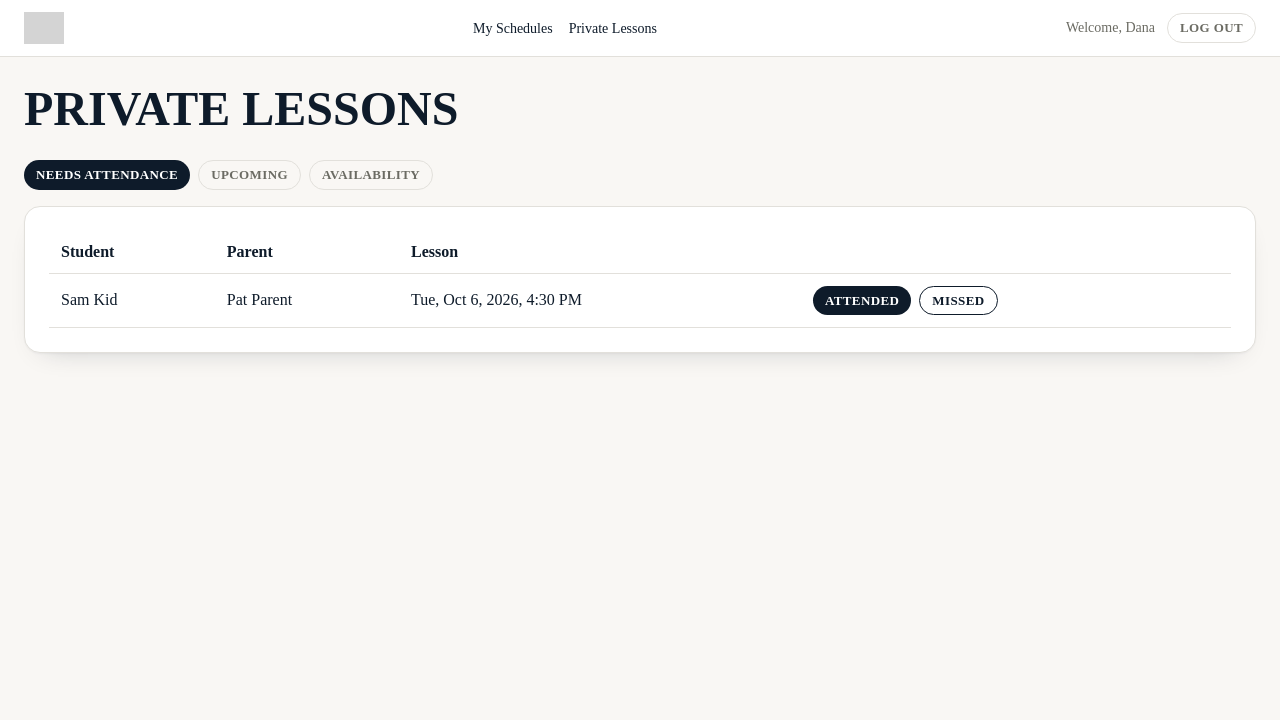
Scenario: CoachPrivateLessonsPage › removing a window deletes every one of its slots, and says past lessons stay on record
This screenshot has width=1280, height=720.
Click the tab "Availability".
click(371, 175)  # box x1=309 y1=160 x2=433 y2=190
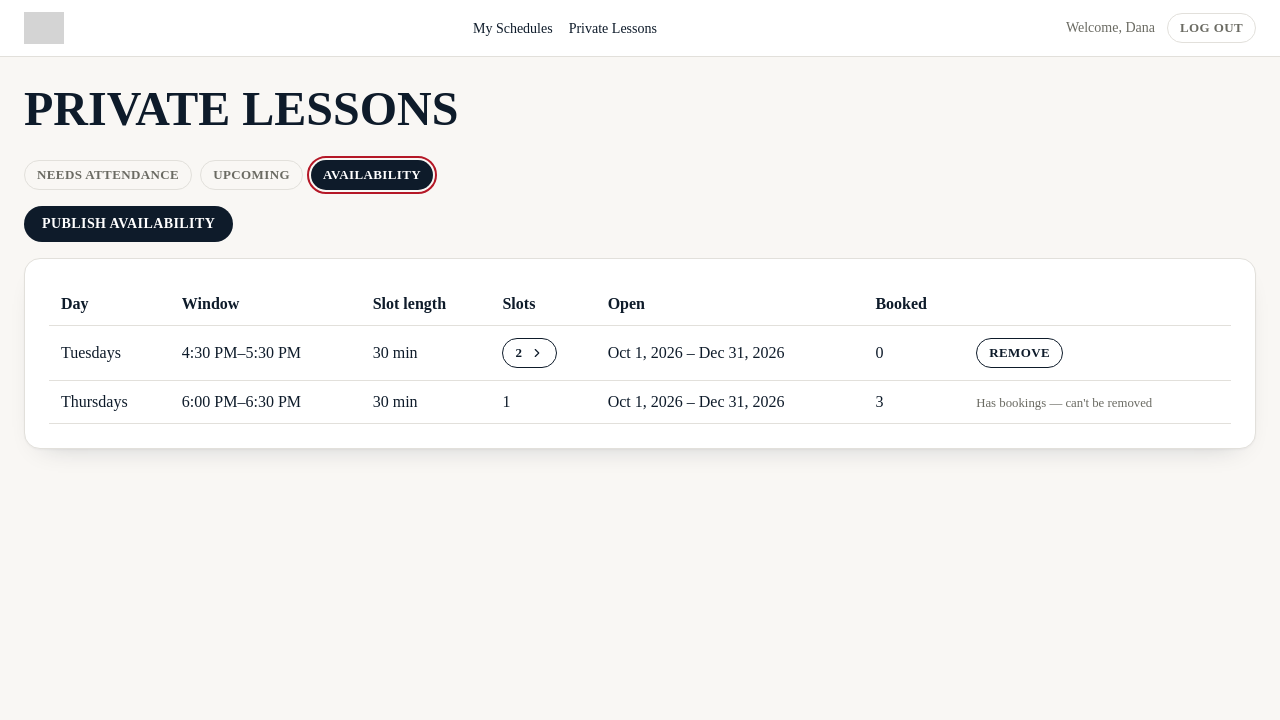
Click the button with aria-label "Remove Tuesdays · 4:30 PM–5:30 PM".
click(1020, 353)  # box x1=976 y1=338 x2=1063 y2=368
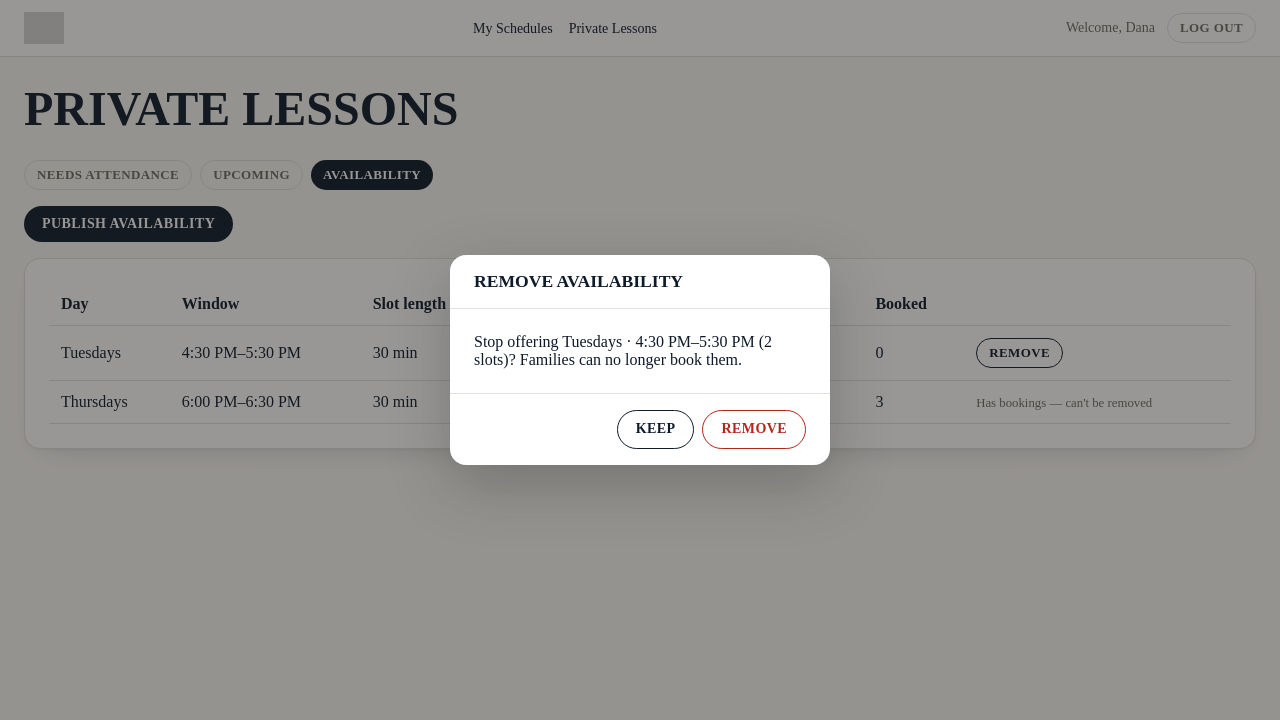
expect the text "Stop offering Tuesdays · 4:30 PM–5:30 PM (2 slots)" is shown: met, box x1=474 y1=333 x2=772 y2=368
Click the button "Remove".
click(754, 430)  # box x1=702 y1=410 x2=806 y2=449
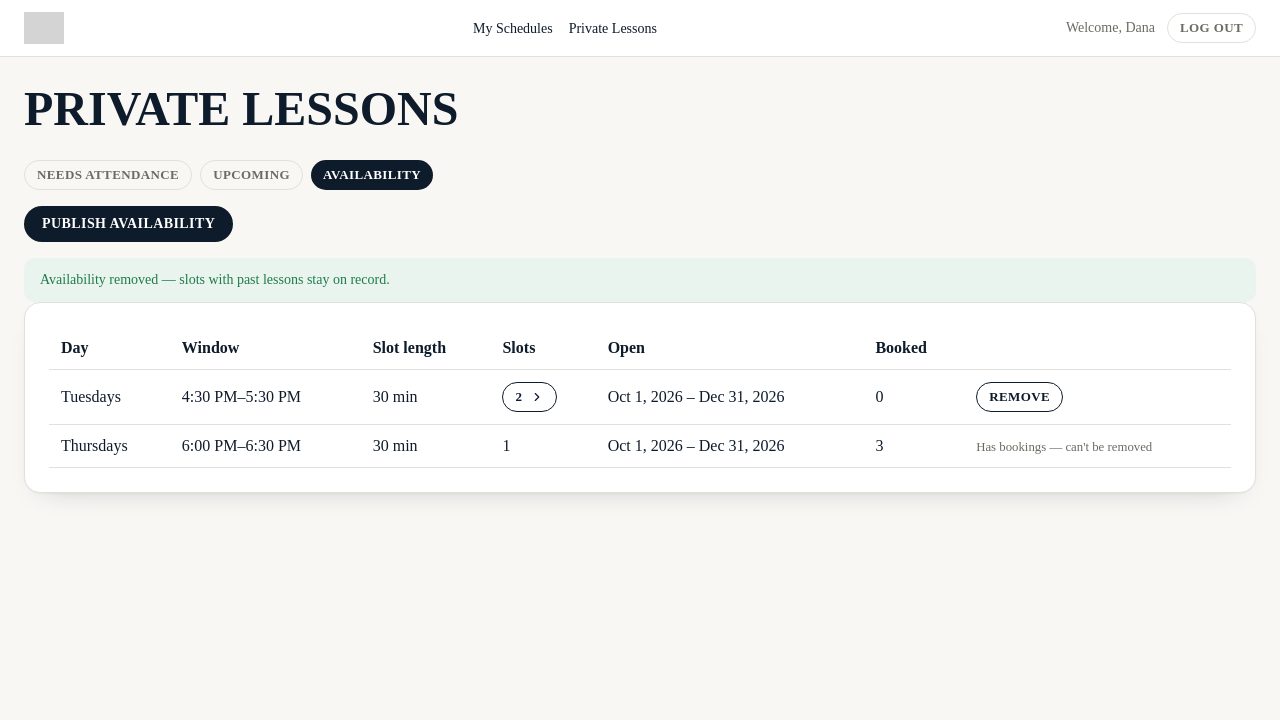
expect the text "Availability removed — slots with past lessons stay on record." is shown: met, box x1=24 y1=258 x2=1256 y2=302
